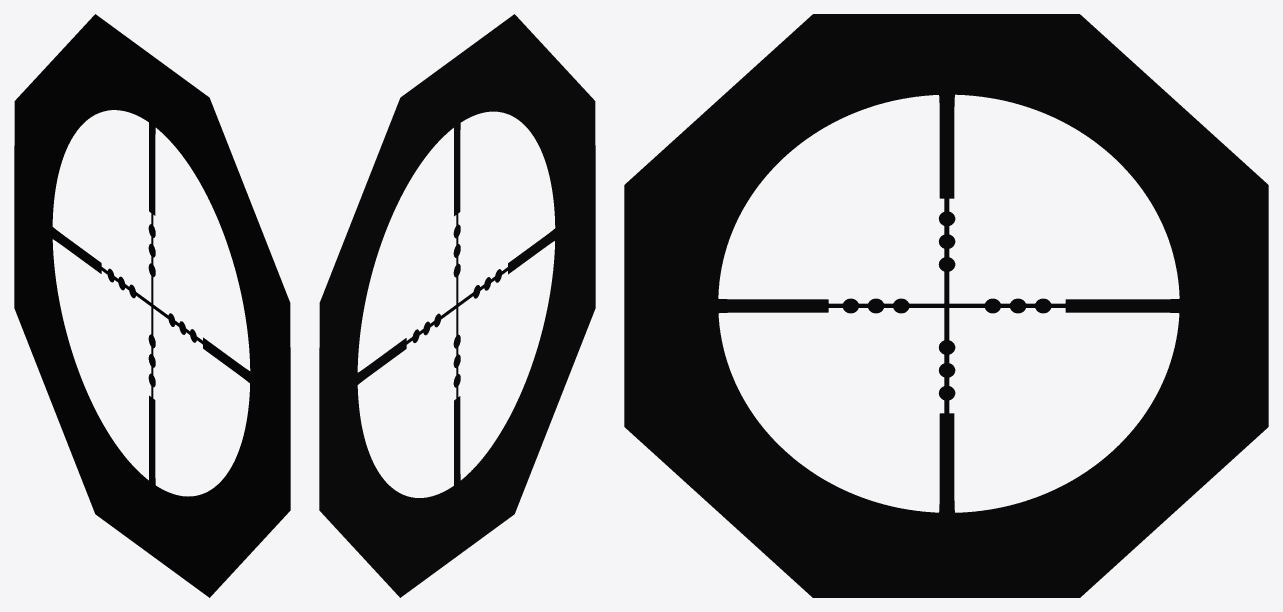
Rendered from Sight_06_Crosshair.fbx.
3 renders of one model, left to right at view 1: azimuth 30°, elevation 25°; view 2: azimuth 150°, elevation 25°; view 3: azimuth 270°, elevation 25°, orthographic. The views are drawn at different scales.
Visible parts, largest first — view 1: Sight_06_Crosshair; view 2: Sight_06_Crosshair; view 3: Sight_06_Crosshair.
Part boxes in pixels (x1=…): Sight_06_Crosshair: x1=14, y1=14, x2=290, y2=597; Sight_06_Crosshair: x1=319, y1=14, x2=595, y2=597; Sight_06_Crosshair: x1=624, y1=14, x2=1268, y2=597.
Size of the model in its own units: 0 by 1.78 by 1.79.
